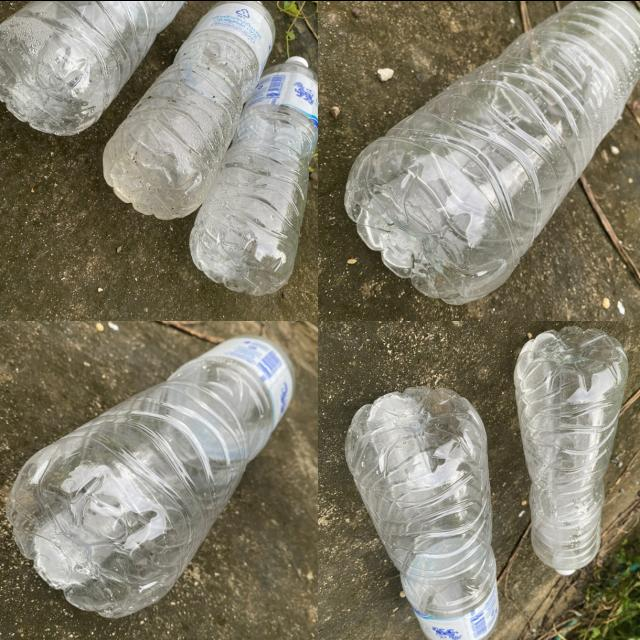plastik: (345, 0, 640, 303), (7, 336, 294, 616), (345, 386, 499, 640), (103, 0, 275, 218), (190, 56, 318, 294), (515, 325, 627, 574), (0, 0, 185, 132)
